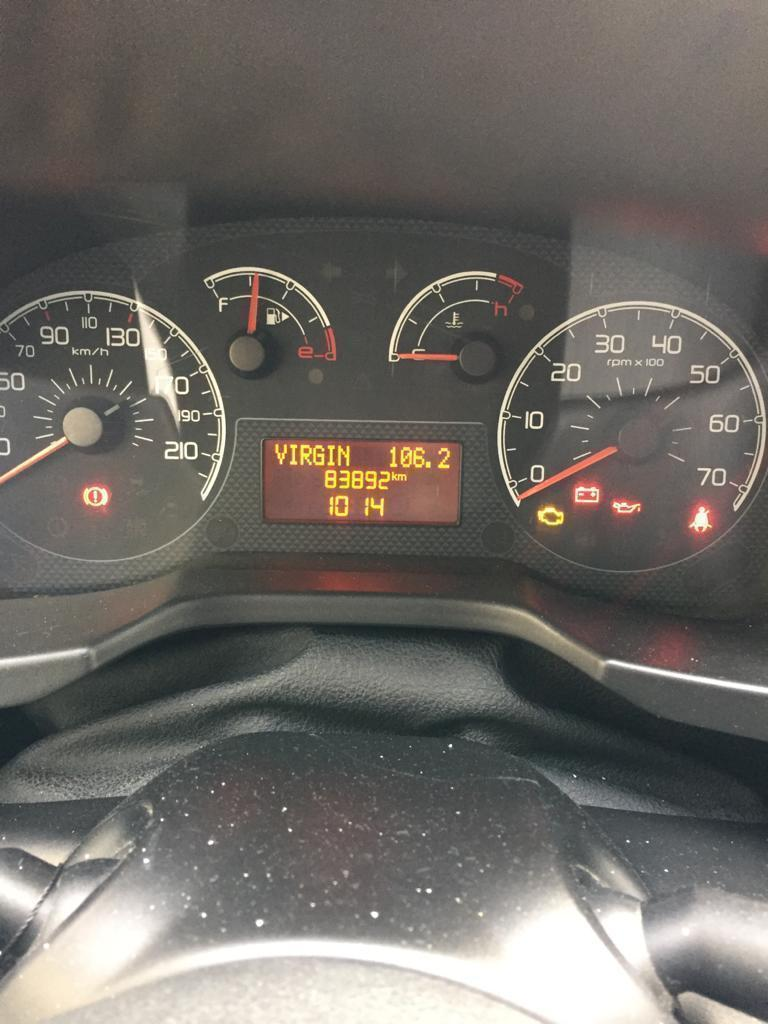,: (426, 460, 432, 469)
0: (334, 494, 349, 517), (399, 445, 412, 468)
1: (389, 444, 398, 468), (365, 495, 369, 517), (329, 495, 333, 516)
2: (437, 446, 451, 469), (377, 469, 390, 490)
3: (338, 469, 349, 489)
4: (370, 495, 384, 517)
6: (413, 445, 425, 468)
8: (351, 470, 363, 489), (324, 469, 336, 488)
9: (364, 470, 377, 490)
X: (336, 443, 351, 466), (300, 442, 312, 467), (274, 442, 287, 465), (312, 444, 325, 466), (326, 443, 336, 468), (288, 443, 297, 466), (398, 472, 407, 481), (391, 471, 397, 481)
odometer: (258, 435, 463, 528)
